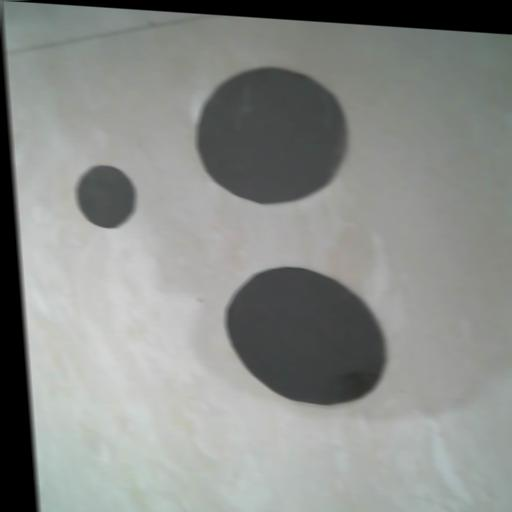pothole: (219, 261, 390, 410), (189, 61, 354, 210), (71, 162, 138, 230)
